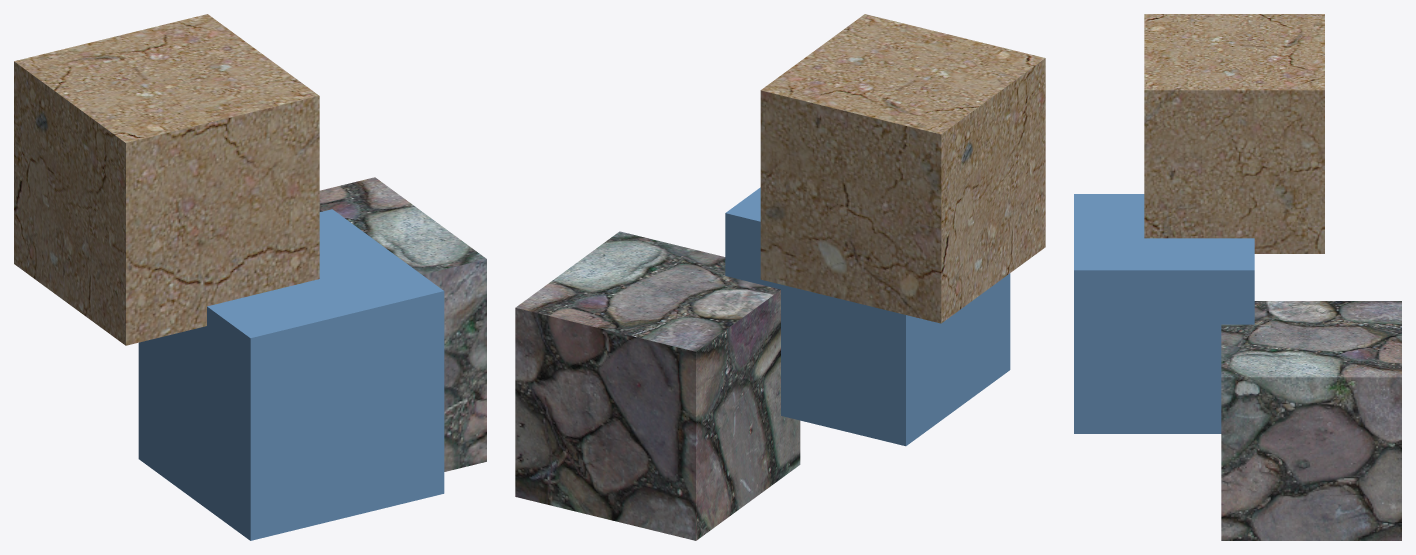
The model's file is multiple-cubes.obj.
3 views of the same model, side by side, from view 1: azimuth 30°, elevation 25°; view 2: azimuth 150°, elevation 25°; view 3: azimuth 270°, elevation 25° (orthographic). The views are drawn at different scales.
Parts seen in each view (by area): view 1: Cube.001, Cube, Cube.002; view 2: Cube.001, Cube.002, Cube; view 3: Cube.002, Cube.001, Cube.
Part boxes in pixels (left/top/right/bottom): Cube.001: left=14, top=14, right=319, bottom=345; Cube: left=138, top=209, right=444, bottom=540; Cube.002: left=319, top=177, right=486, bottom=471; Cube.001: left=760, top=14, right=1045, bottom=323; Cube.002: left=515, top=231, right=800, bottom=540; Cube: left=725, top=187, right=1010, bottom=446; Cube.002: left=1221, top=301, right=1401, bottom=540; Cube.001: left=1144, top=14, right=1324, bottom=253; Cube: left=1074, top=194, right=1254, bottom=433.
Bounding box in the file's own units: 2.83 × 2.99 × 2.43.
3 materials, 2 textured.
